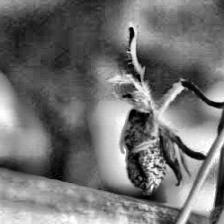Gray Mold: (106, 25, 212, 196)
